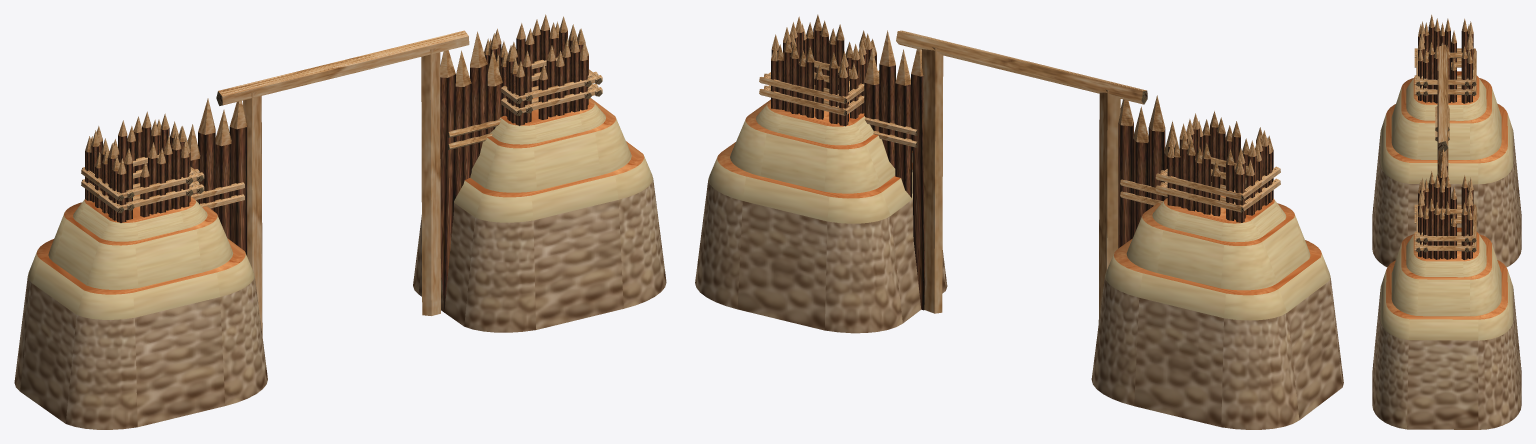
The model's file is wall_gate.dae.
The picture shows the model from 3 angles, left to right: view 1: azimuth 30°, elevation 25°; view 2: azimuth 150°, elevation 25°; view 3: azimuth 270°, elevation 25°; orthographic projection. The views are drawn at different scales.
Parts seen in each view (by area): view 1: wall_gate; view 2: wall_gate; view 3: wall_gate.
Boxes of the visible parts, bbox=[...] form: wall_gate: bbox=[14, 14, 666, 429]; wall_gate: bbox=[695, 14, 1343, 429]; wall_gate: bbox=[1372, 14, 1521, 429].
Size of the model in its own units: 46.32 by 12.39 by 20.09.
1 material, 1 textured.
